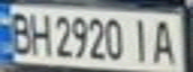0: (103, 15, 130, 62)
2: (87, 14, 109, 61), (51, 10, 72, 58)
9: (69, 11, 90, 60)
A: (145, 16, 181, 66)
B: (3, 8, 36, 56)
H: (27, 9, 54, 57)
I: (127, 15, 157, 64)
